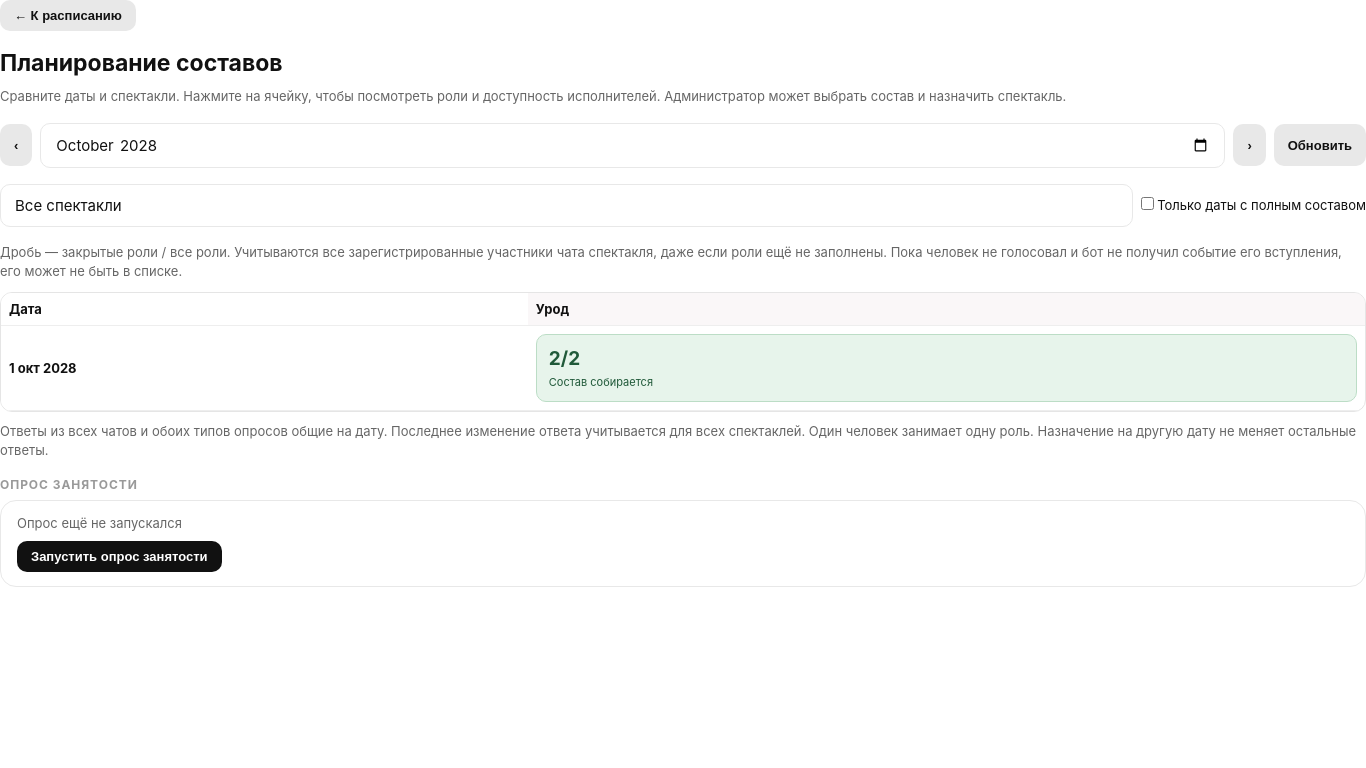
Test case: shows role coverage and submits the chosen cast, time, location and reviewed snapshot
This screenshot has width=1366, height=768.
Click the button "2/2 Состав собирается": (601, 382) [536,334,1357,402]
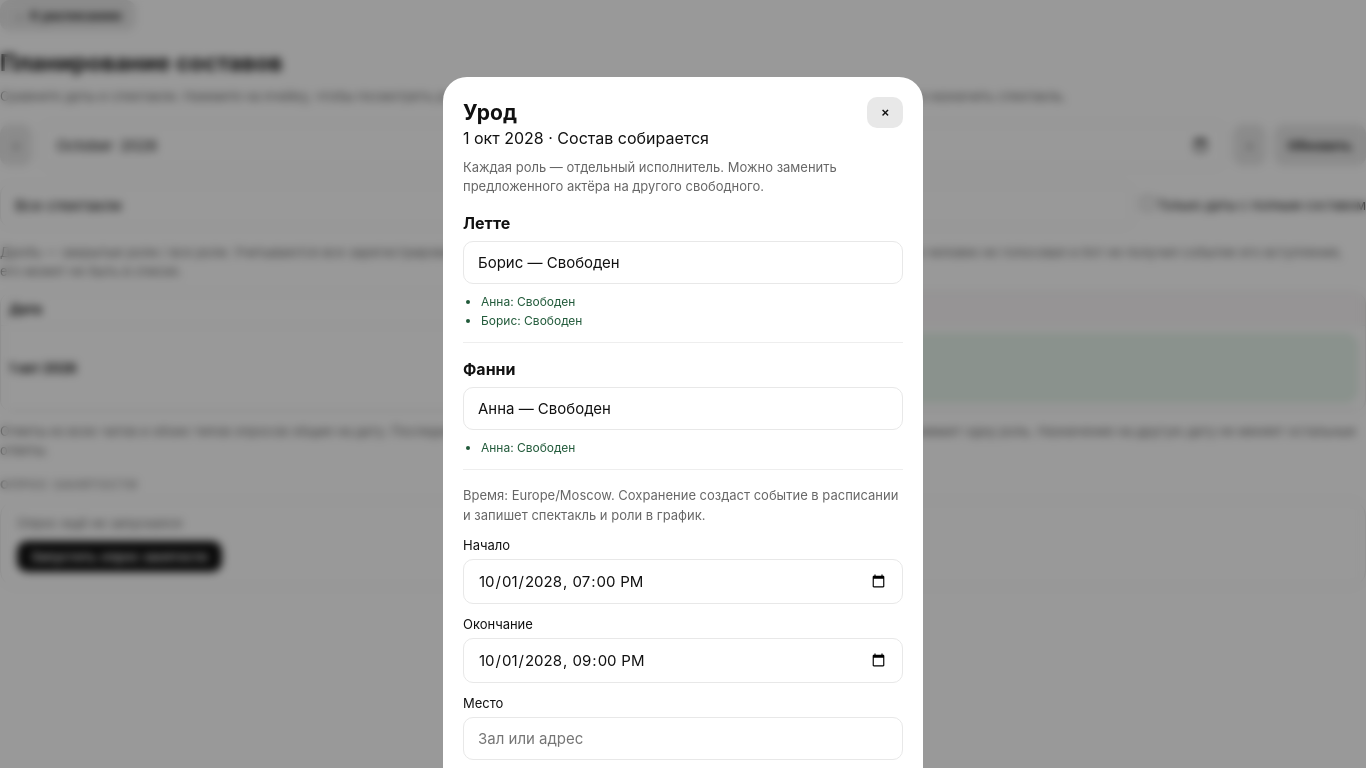
Check: the button "Запустить опрос занятости" is shown, box [17,540,222,572]
Check: the dropdown named "Исполнитель: Летте" shows "Борис — Свободен", box [463,241,903,284]
In the field with placeholder "Зал или адрес": (683, 739) [463,717,903,760], type "Малая сцена"
(page scrolled)
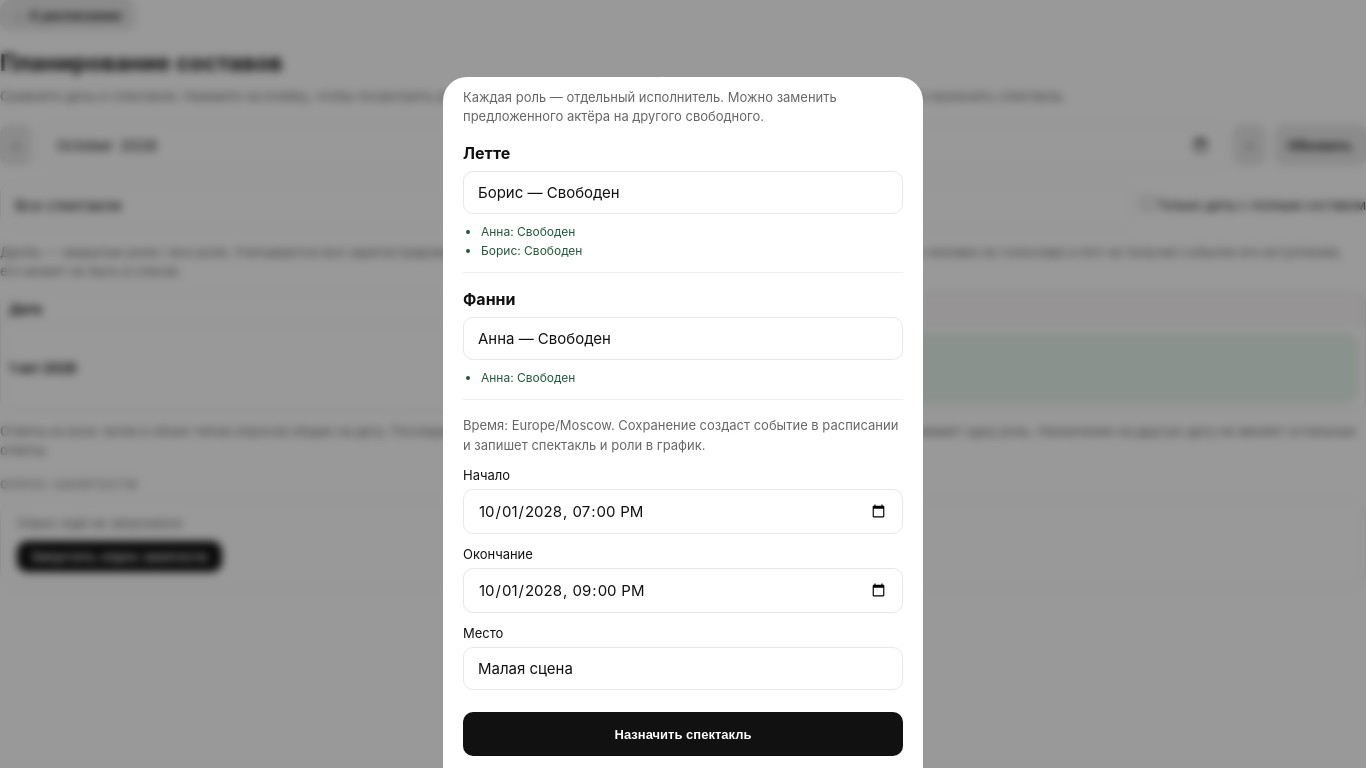
Submit the form, box [463,88,903,756]
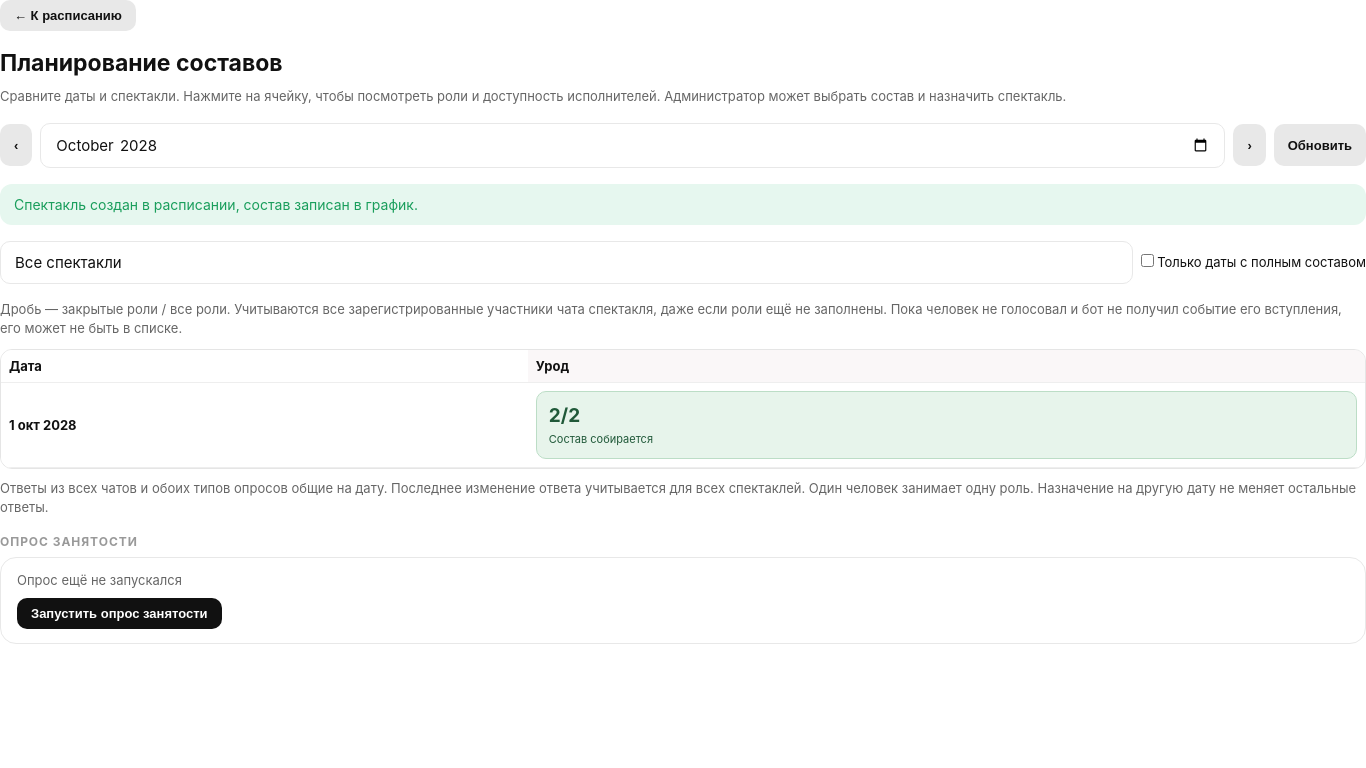
Check: the text "Спектакль создан в расписании" is shown, box [14,196,418,212]
